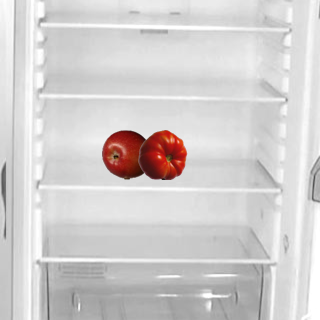Apple Braeburn: (101, 129, 151, 179)
Tomato 3: (137, 129, 187, 179)
